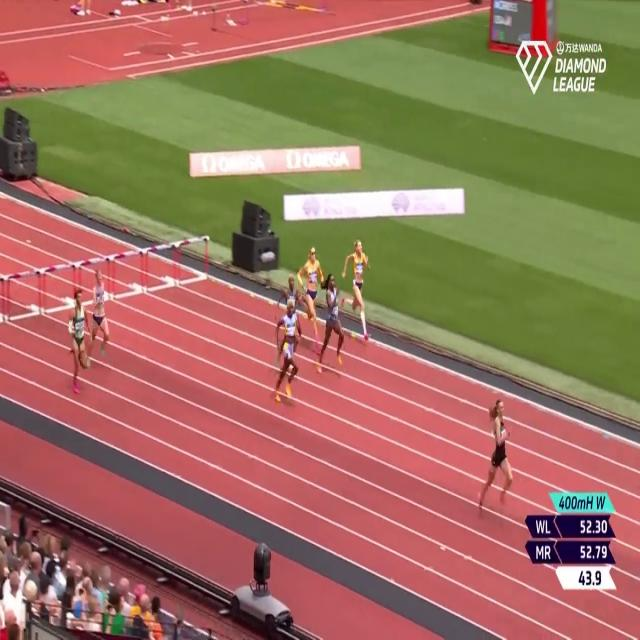athlete: (476, 387, 520, 526), (342, 237, 378, 351), (319, 263, 347, 382), (274, 295, 302, 412), (296, 237, 323, 355), (272, 270, 303, 370), (68, 286, 91, 404), (92, 268, 112, 366)
hurdle: (77, 252, 114, 310), (144, 241, 178, 302), (111, 247, 145, 306), (4, 271, 42, 323), (176, 234, 210, 288), (43, 262, 75, 319)
